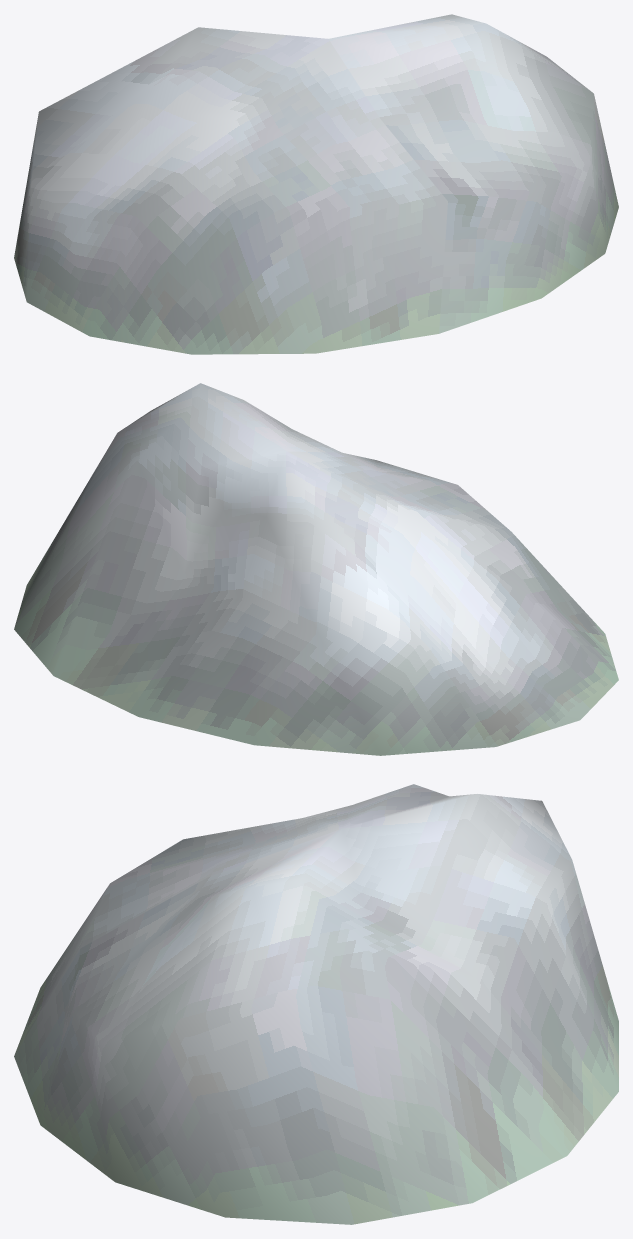
File: INST_TROLLHOLE_STONEA.fbx
3 renders of one model, top to bottom at view 1: azimuth 30°, elevation 25°; view 2: azimuth 150°, elevation 25°; view 3: azimuth 270°, elevation 25°, orthographic. The views are drawn at different scales.
Parts seen in each view (by area): view 1: INST_TROLLHOLE_STONEA; view 2: INST_TROLLHOLE_STONEA; view 3: INST_TROLLHOLE_STONEA.
Part boxes in pixels (x1=…): INST_TROLLHOLE_STONEA: x1=14, y1=14, x2=618, y2=354; INST_TROLLHOLE_STONEA: x1=14, y1=383, x2=618, y2=755; INST_TROLLHOLE_STONEA: x1=14, y1=784, x2=618, y2=1224.
Size of the model in its own units: 16425 by 5826 by 12469.
Materials: 1 (1 with a texture image).
